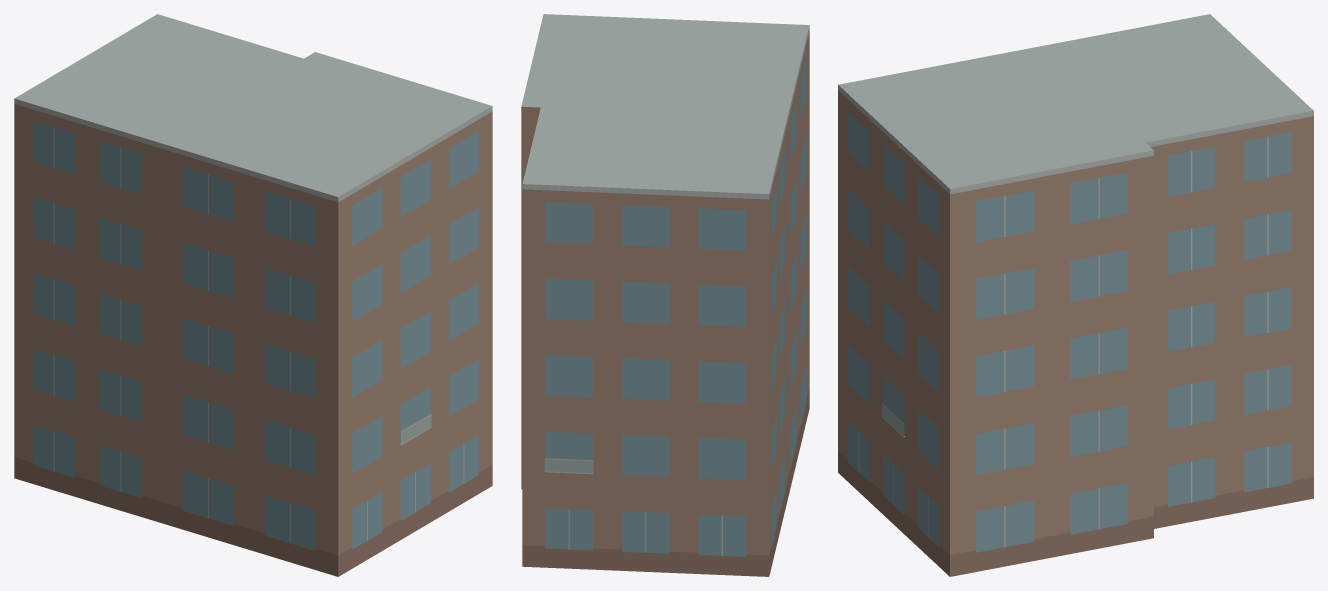
The model's file is survey-upis-32962664.glb.
3 views of the same model, side by side, from view 1: azimuth 30°, elevation 25°; view 2: azimuth 150°, elevation 25°; view 3: azimuth 270°, elevation 25° (orthographic). The views are drawn at different scales.
Parts seen in each view (by area): view 1: survey-upis-32962664.tmp; view 2: survey-upis-32962664.tmp; view 3: survey-upis-32962664.tmp.
Part boxes in pixels (<box>): survey-upis-32962664.tmp: <box>14,14,492,576</box>; survey-upis-32962664.tmp: <box>521,14,809,576</box>; survey-upis-32962664.tmp: <box>838,14,1313,576</box>.
Bounding box in the file's own units: 16.99 × 17.55 × 19.52.
